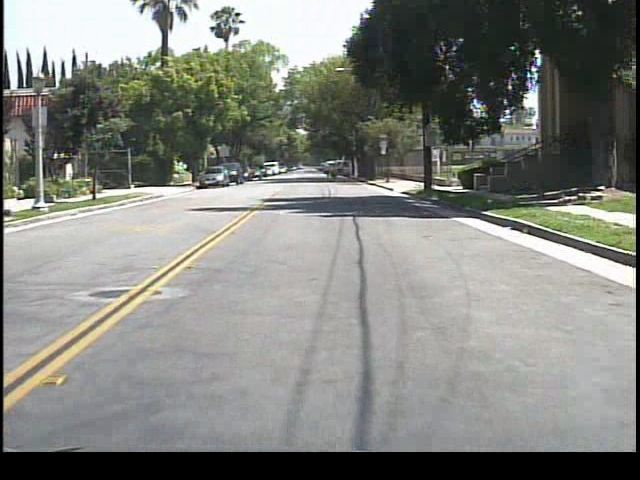person: (319, 158, 335, 183)
